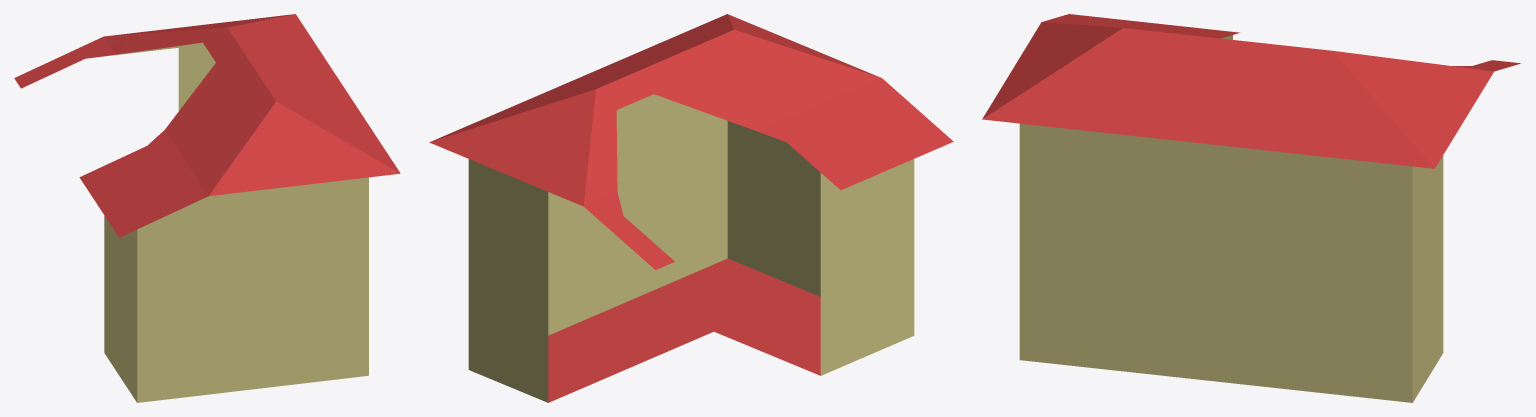
3 views of the same model, side by side, from view 1: azimuth 30°, elevation 25°; view 2: azimuth 150°, elevation 25°; view 3: azimuth 270°, elevation 25° (orthographic). The views are drawn at different scales.
Bounding box in the file's own units: 11.06 × 13.15 × 8.15.
